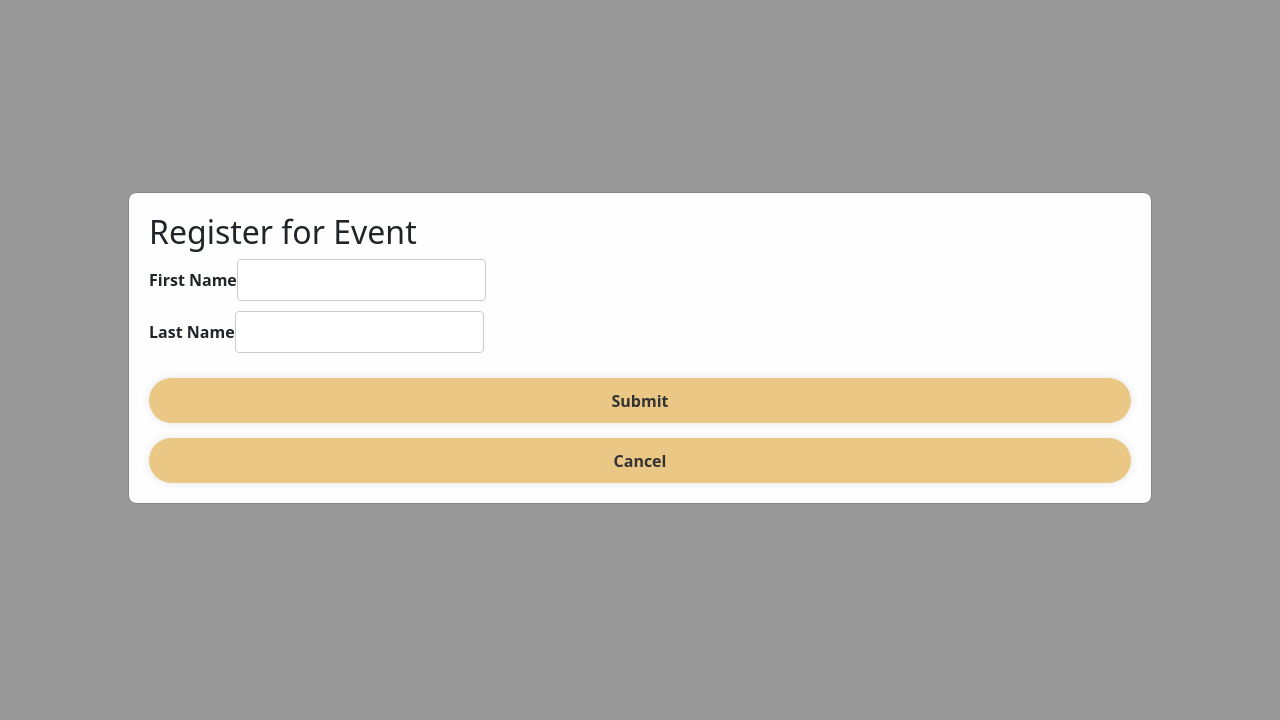
Test: RegistrationForm Component Tests › shows error when required fields are empty
Click the button "Submit": (640, 401) [149,378,1131,423]
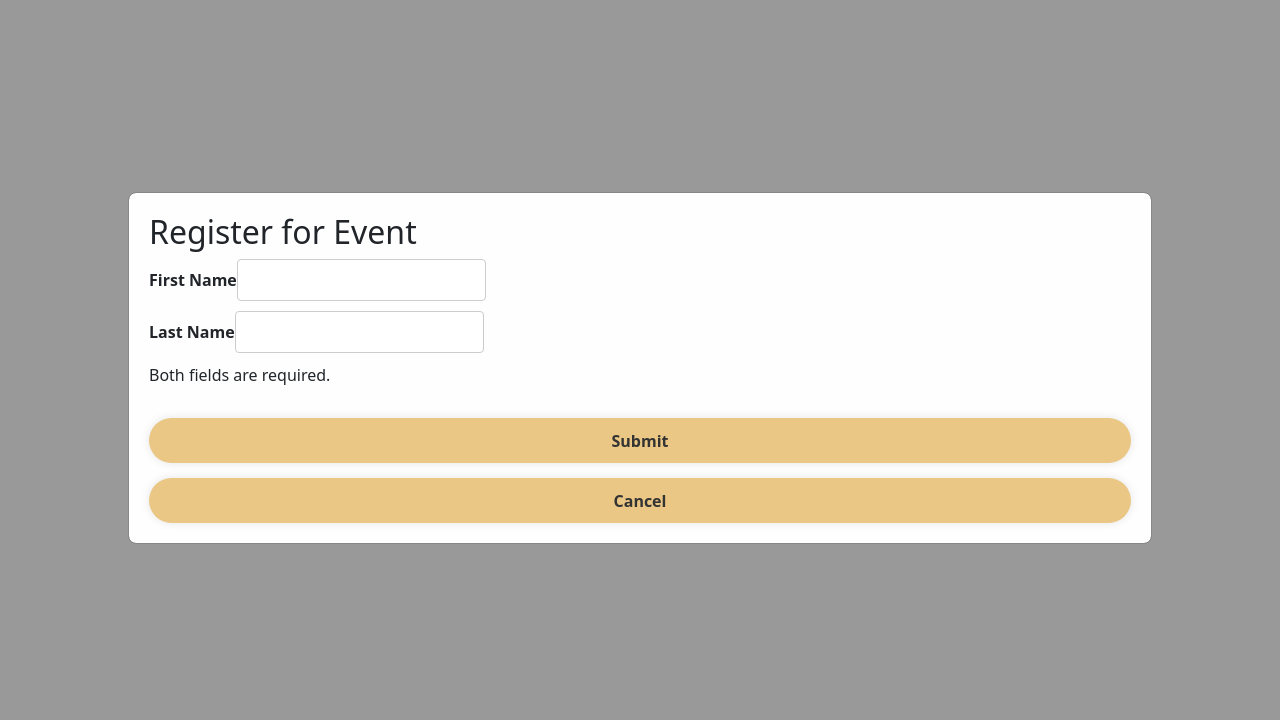
Result: the text "Both fields are required." is shown at [149,364,330,386]
